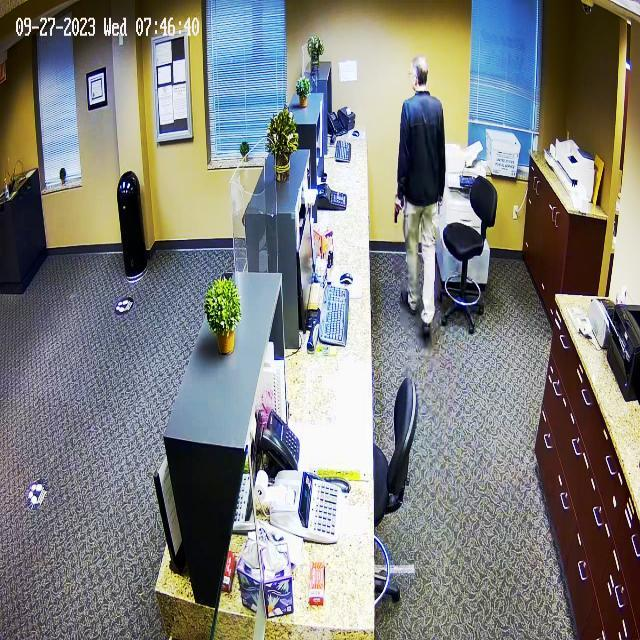Gun: (381, 186, 412, 232)
